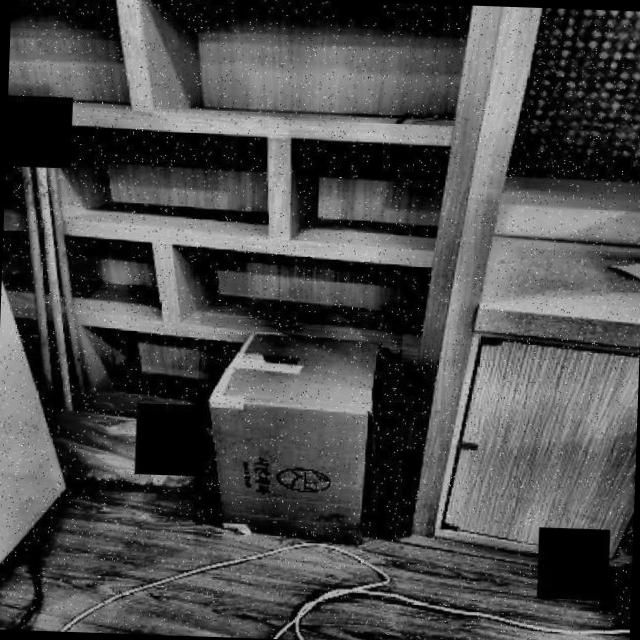box: (192, 316, 403, 557)
